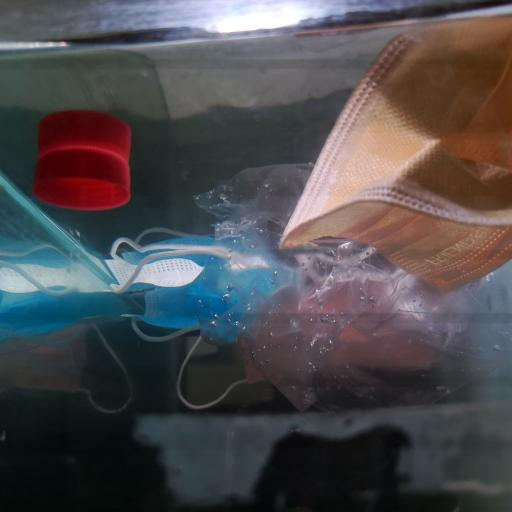bottle_cap: (36, 150, 135, 211)
mask: (277, 28, 512, 285), (114, 224, 290, 348)
plastic_bag: (194, 164, 512, 420)
